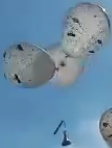Balloon: (62, 3, 109, 59), (2, 43, 56, 89)
